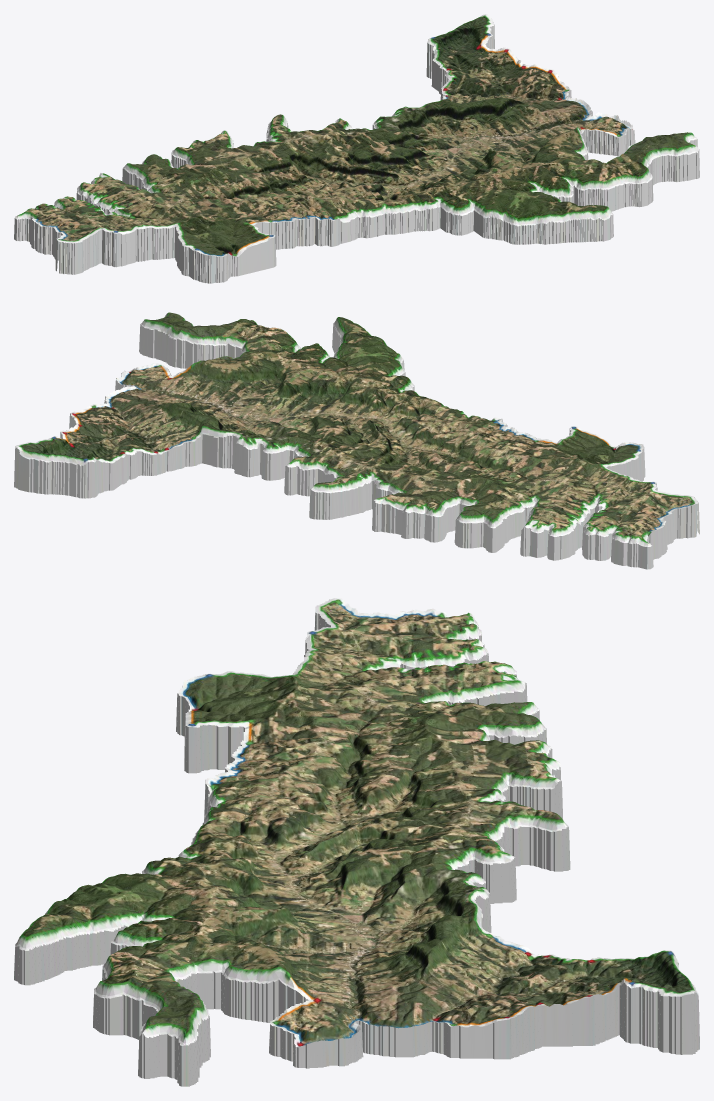
3 views of the same model, one above another, from view 1: azimuth 30°, elevation 25°; view 2: azimuth 150°, elevation 25°; view 3: azimuth 270°, elevation 25° (orthographic). The views are drawn at different scales.
Size of the model in its own units: 1 by 0.0635 by 0.6581.
Materials: 1 (1 with a texture image).
